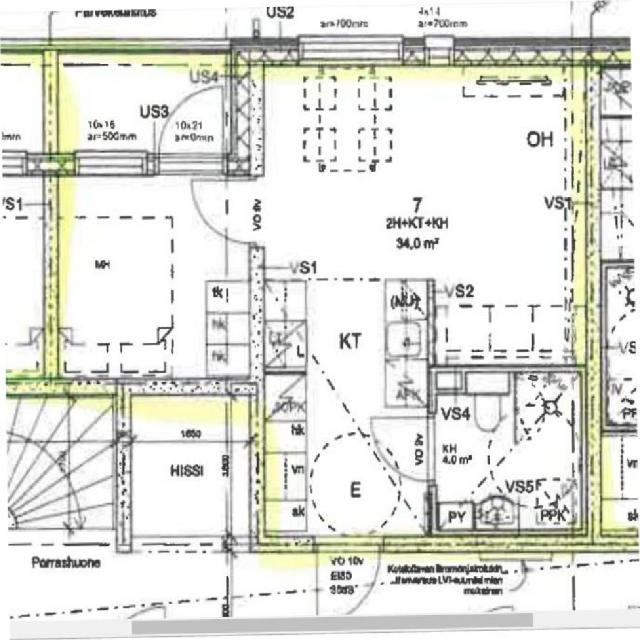door: (158, 81, 223, 175), (316, 536, 379, 622), (193, 180, 257, 242), (372, 417, 434, 480)
